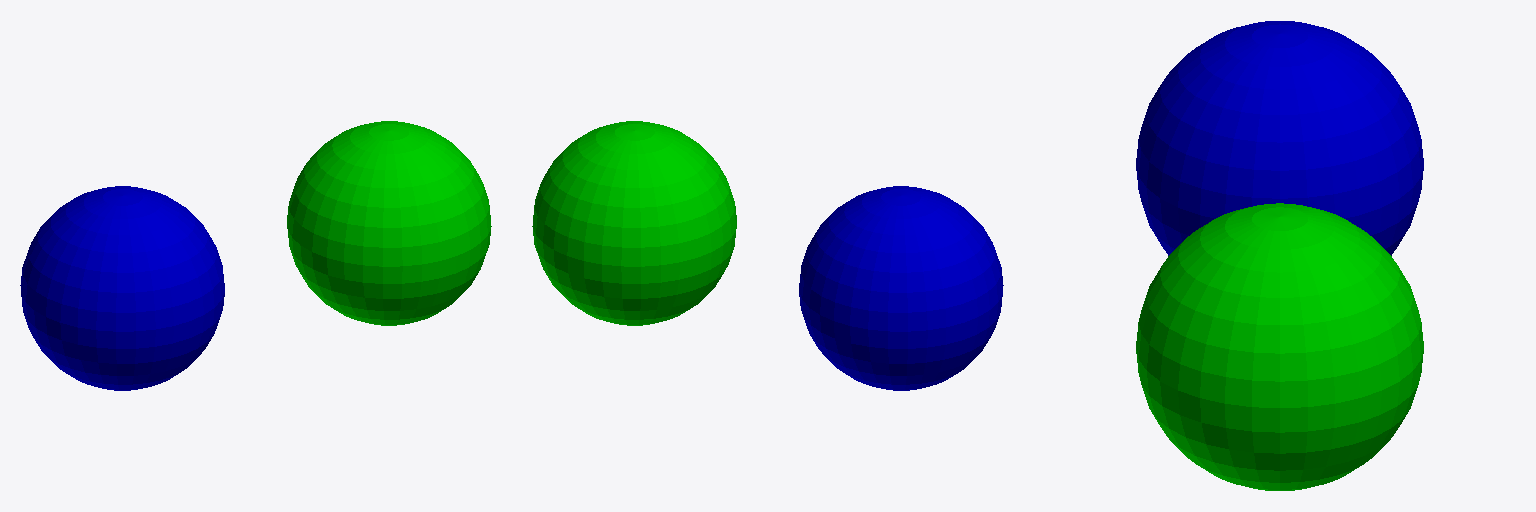
The robot description file, URDF, robot "A_vs_B":
<?xml version="1.0"?>
<robot name="A_vs_B">
  <material name="blue">
    <color rgba="0 0 0.8 .5"/>
  </material>
  <material name="green">
    <color rgba="0 0.8 0 .5"/>
  </material>
  <link name="A">
    <visual>
      <geometry>
        <sphere radius="1"/>
      </geometry>
      <origin rpy="0.0 0 0" xyz="-1.5 0 0"/>
      <material name="blue"/>
    </visual>
  </link>
  <link name="B">
    <visual>
      <geometry>
        <sphere radius="1"/>
      </geometry>
      <origin rpy="0 0 0" xyz="1.5 0 0"/>
      <material name="green"/>
    </visual>
  </link>
  <joint name="joint1" type="revolute">
    <axis xyz="0 0 1"/>
    <limit effort="1" lower="-1" upper="1" velocity="1"/>
    <origin rpy="0 0 0" xyz="0 0 0"/>
    <parent link="A"/>
    <child link="B"/>
  </joint>
</robot>

--- Facts derived from the render (not from the file) ---
3 views of the same robot in one strip: view 1: azimuth 30°, elevation 25°; view 2: azimuth 150°, elevation 25°; view 3: azimuth 270°, elevation 25° (orthographic).
Robot: A_vs_B — 2 links, 1 joints (1 revolute); root link A; default pose: all joints at 0.
Links seen in each view (by area): view 1: A, B; view 2: A, B; view 3: B, A.
Link boxes in pixels (left/top/right/bottom): A: left=20, top=186, right=224, bottom=390; B: left=287, top=121, right=491, bottom=325; A: left=799, top=186, right=1003, bottom=390; B: left=532, top=121, right=736, bottom=325; B: left=1136, top=203, right=1423, bottom=490; A: left=1136, top=21, right=1423, bottom=255.
Bounding box of the posed robot: 5 × 2 × 2 m (x, y, z).
Geometry: primitives only (box / cylinder / sphere), no mesh files.